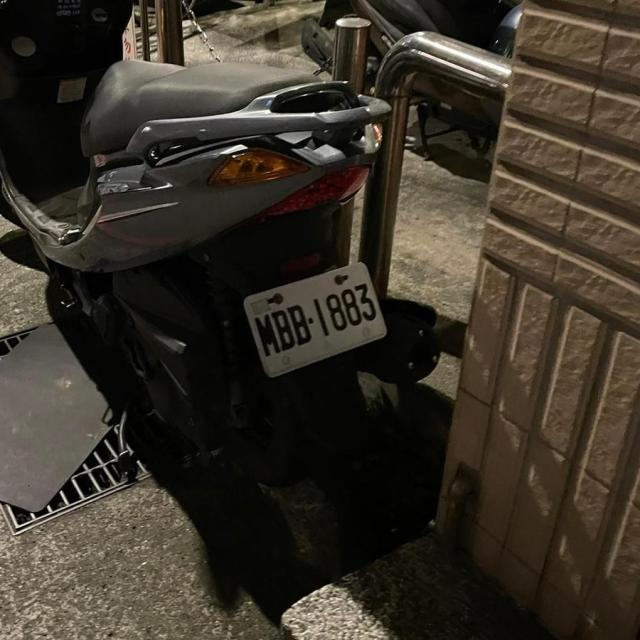W: (234, 250, 400, 384)
